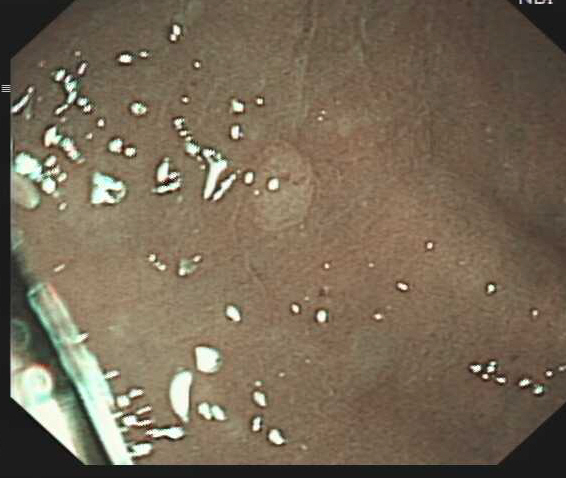others: (239, 139, 318, 238)
